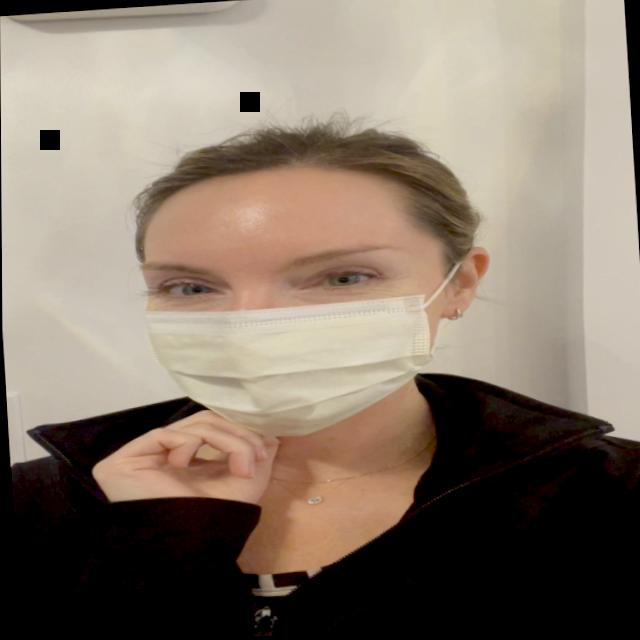Mask: (132, 161, 467, 447)
